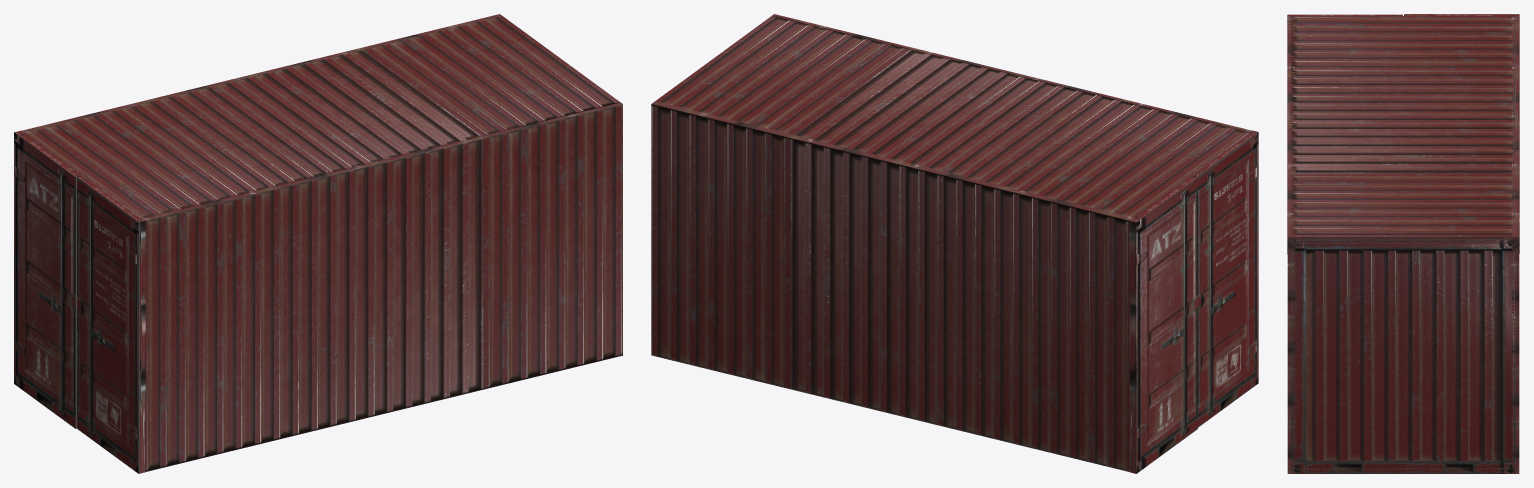
Rendered from cargobox.gltf.
3 views of the same model, side by side, from view 1: azimuth 30°, elevation 25°; view 2: azimuth 150°, elevation 25°; view 3: azimuth 270°, elevation 25° (orthographic). The views are drawn at different scales.
Parts seen in each view (by area): view 1: right_side, celing, right door, left_door, left_side; view 2: left_side, celing, left_door, right door, right_side; view 3: back, celing, right_side, left_side, floor, right door, left_door.
Boxes of the visible parts, x1,y1,x2,y2 form: right_side: (139, 102, 622, 471); celing: (21, 15, 620, 219); right door: (77, 176, 145, 473); left_door: (14, 130, 80, 428); left_side: (19, 14, 501, 133); left_side: (651, 101, 1135, 471); celing: (653, 15, 1251, 219); left_door: (1129, 176, 1197, 473); right door: (1193, 130, 1258, 427); right_side: (771, 14, 1254, 133); back: (1291, 235, 1515, 473); celing: (1291, 16, 1515, 243); right_side: (1287, 16, 1295, 473); left_side: (1511, 16, 1519, 473); floor: (1291, 467, 1515, 473); right door: (1287, 14, 1402, 254); left_door: (1404, 14, 1519, 253).
Size of the model in its own units: 7.07 by 3.5 by 3.11.
3 materials, 3 textured.
